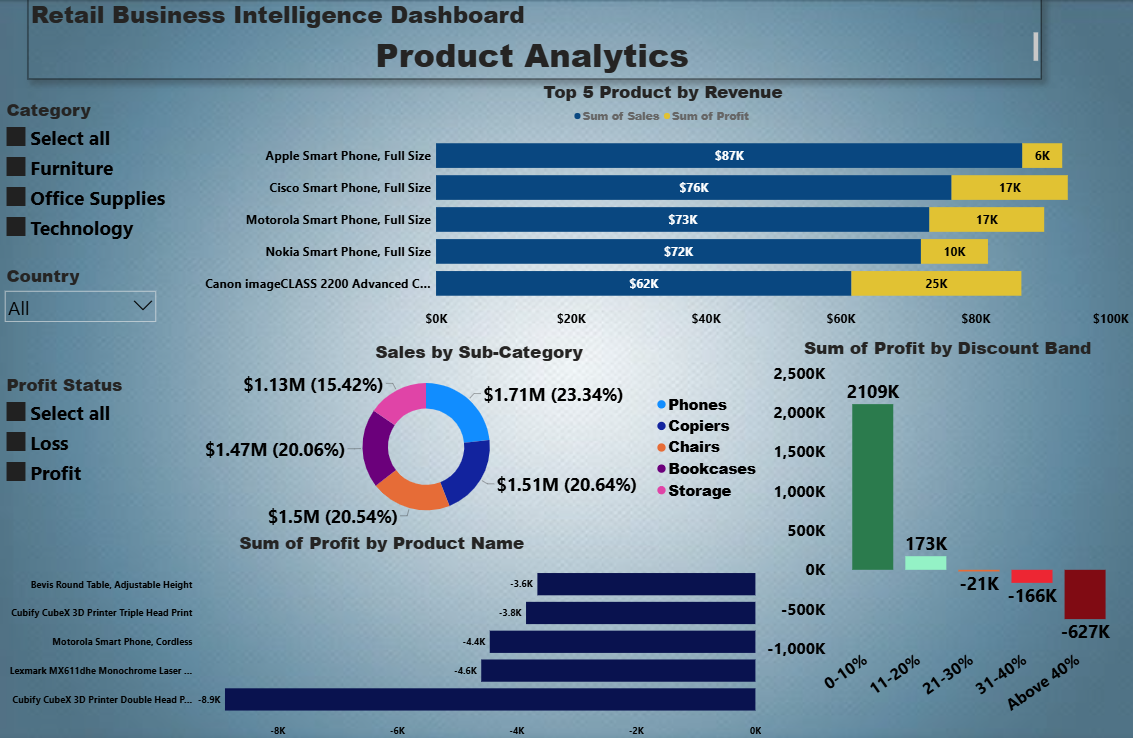

The dashboard page shown, as its layout file describes it:
{"tool":"powerbi","page":{"name":"Page 4","canvas":[2000,1300],"ordinal":3},"visuals":[{"type":"textbox","title":"Retail Business Intelligence Dashboard","box":[50,0,1766.7,143.3],"z":0},{"type":"barChart","title":"Top 5 Product by Revenue","fields":{"Category":["cleaned_data.Product Name"],"Y":["Sum(cleaned_data.Sales)","Sum(cleaned_data.Profit)"]},"box":[338.9,143.6,1634.1,442.3],"z":1000},{"type":"donutChart","title":"Sales by Sub-Category","fields":{"Category":["cleaned_data.Sub-Category"],"Y":["Sum(cleaned_data.Sales)"]},"box":[340,596.7,993.3,333.3],"z":2000},{"type":"clusteredColumnChart","fields":{"Category":["cleaned_data.Discount Band"],"Y":["Sum(cleaned_data.Profit)"]},"box":[1333.3,590,640,680],"z":3000},{"type":"clusteredBarChart","fields":{"Category":["cleaned_data.Product Name"],"Y":["Sum(cleaned_data.Profit)"]},"box":[0,930,1333.3,370],"z":4000},{"type":"slicer","fields":{"Values":["cleaned_data.Category"]},"box":[0,170,296.7,290],"z":5000},{"type":"slicer","fields":{"Values":["cleaned_data.Profit Status"]},"box":[0,650,296.7,226.7],"z":6000},{"type":"slicer","fields":{"Values":["cleaned_data.Country"]},"box":[0,460,283.3,186.7],"z":7000}]}

Visuals, with their boxes in screenshot pixels (x1, y1, x2, y2), scaled from the page's 2000x1300 canvas onto the 1133x738 screenshot:
"Retail Business Intelligence Dashboard" textbox: {"left": 28, "top": 0, "right": 1029, "bottom": 81}
"Top 5 Product by Revenue" barChart: {"left": 192, "top": 82, "right": 1118, "bottom": 333}
"Sales by Sub-Category" donutChart: {"left": 193, "top": 339, "right": 755, "bottom": 528}
clusteredColumnChart - cleaned_data.Discount Band x Sum(cleaned_data.Profit): {"left": 755, "top": 335, "right": 1118, "bottom": 721}
clusteredBarChart - cleaned_data.Product Name x Sum(cleaned_data.Profit): {"left": 0, "top": 528, "right": 755, "bottom": 737}
slicer - cleaned_data.Category: {"left": 0, "top": 97, "right": 168, "bottom": 261}
slicer - cleaned_data.Profit Status: {"left": 0, "top": 369, "right": 168, "bottom": 498}
slicer - cleaned_data.Country: {"left": 0, "top": 261, "right": 160, "bottom": 367}
